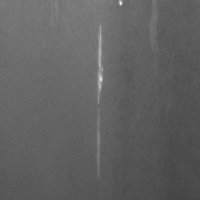scratches: (93, 23, 108, 176)
